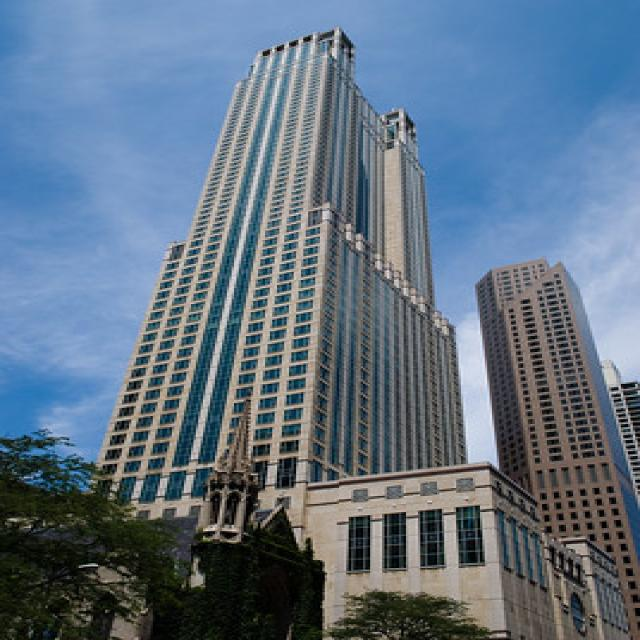building: (109, 24, 469, 640), (475, 257, 640, 640)
